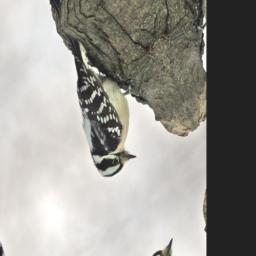Woodpecker: (42, 0, 165, 190)
